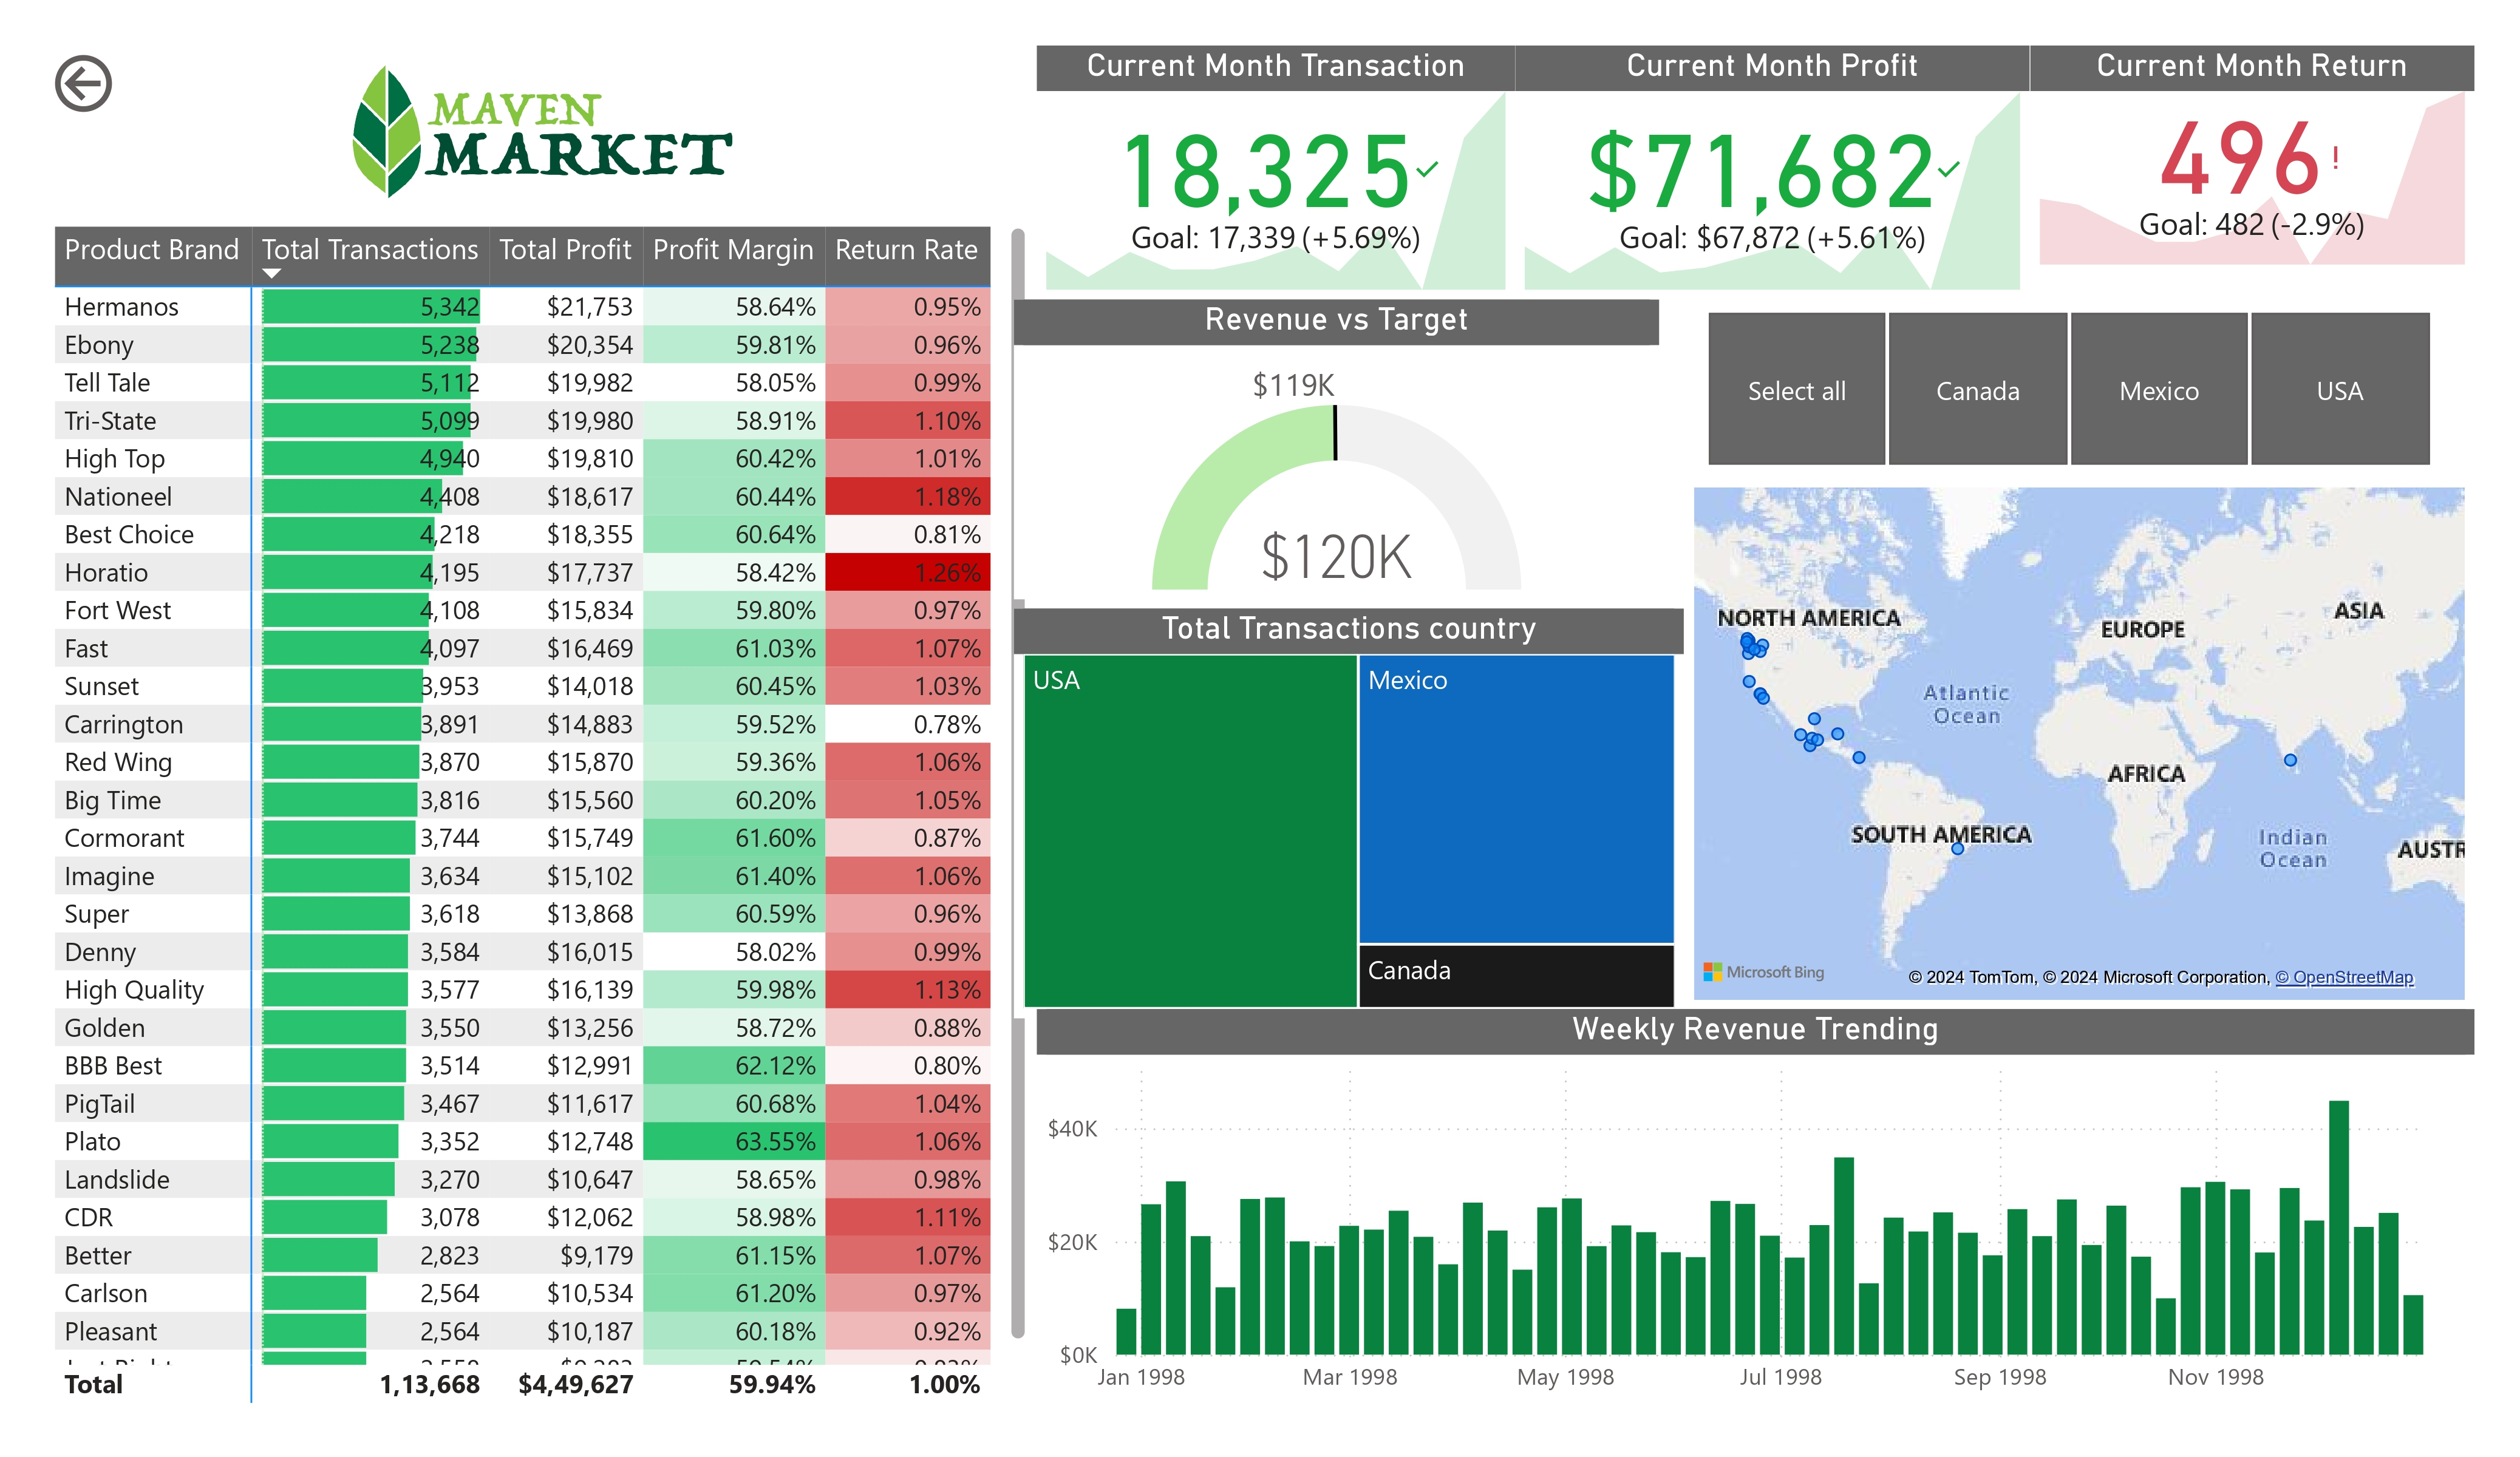

The page's visual inventory and layout, read from the dashboard file:
{"tool":"powerbi","page":{"name":"Topline Performance","canvas":[1280,720],"ordinal":0},"visuals":[{"type":"image","box":[0,0,522.4,90.5],"z":0},{"type":"pivotTable","fields":{"Rows":["Products.product_brand"],"Values":["Transaction_Data.Total Transactions","Transaction_Data.Total Profit","Transaction_Data.Profit Margin","Return_Data.Return Rate"]},"box":[0,90.5,522.4,629.8],"z":1000},{"type":"kpi","title":"Current Month Transaction","fields":{"Indicator":["Transaction_Data.Total Transactions"],"Goal":["Transaction_Data.Last Month Transaction"],"TrendLine":["Calendar.Start of Month"]},"box":[522.4,0,252.1,133.9],"z":2000},{"type":"kpi","title":"Current Month Profit","fields":{"TrendLine":["Calendar.Start of Month"],"Indicator":["Transaction_Data.Total Profit"],"Goal":["Transaction_Data.Last Month Profit"]},"box":[774.5,0,271.4,133.9],"z":3000},{"type":"kpi","title":"Current Month Return","fields":{"TrendLine":["Calendar.Start of Month"],"Goal":["Transaction_Data.Last Month Returns"],"Indicator":["Return_Data.Total Returns"]},"box":[1046,0,234,120.6],"z":4000},{"type":"map","title":"Total Transactions by Store City","fields":{"Category":["Stores.store_city"]},"box":[863.8,228,416.2,279.9],"z":5000},{"type":"slicer","fields":{"Values":["Stores.store_country"]},"box":[850.5,133.9,429.5,94.1],"z":6000},{"type":"treemap","title":"Total Transactions country","fields":{"Values":["Transaction_Data.Total Transactions"],"Group":["Stores.store_country","Stores.store_state","Stores.store_city"]},"box":[510.3,296.8,353.5,216],"z":7000},{"type":"actionButton","box":[0,0,100,40],"z":8000},{"type":"columnChart","title":"Weekly Revenue Trending","fields":{"Y":["Transaction_Data.Total Revenue"],"Category":["Calendar.Start of Week"]},"box":[522.4,507.9,757.6,212.3],"z":9000},{"type":"gauge","title":"Revenue vs Target","fields":{"Y":["Transaction_Data.Total Revenue"],"TargetValue":["Transaction_Data.Revenue Target"]},"box":[510.3,133.9,340.2,158],"z":10000}]}

Visuals, with their boxes on the page's 1280x720 design canvas (x1, y1, x2, y2). These are canvas units, not pixel positions in the 2520x1457 screenshot, which may show the page scaled, cropped or inside an application window:
image: bbox(0, 0, 522, 90)
pivotTable - Products.product_brand x Transaction_Data.Total Transactions: bbox(0, 90, 522, 720)
"Current Month Transaction" kpi: bbox(522, 0, 774, 134)
"Current Month Profit" kpi: bbox(774, 0, 1046, 134)
"Current Month Return" kpi: bbox(1046, 0, 1280, 121)
"Total Transactions by Store City" map: bbox(864, 228, 1280, 508)
slicer - Stores.store_country: bbox(850, 134, 1280, 228)
"Total Transactions country" treemap: bbox(510, 297, 864, 513)
actionButton: bbox(0, 0, 100, 40)
"Weekly Revenue Trending" columnChart: bbox(522, 508, 1280, 720)
"Revenue vs Target" gauge: bbox(510, 134, 850, 292)
